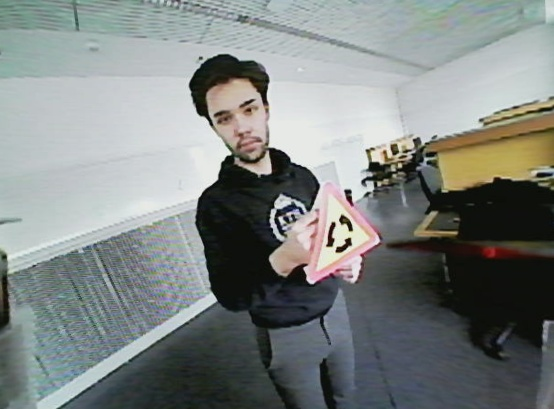roundabout_warning: (304, 174, 382, 287)
